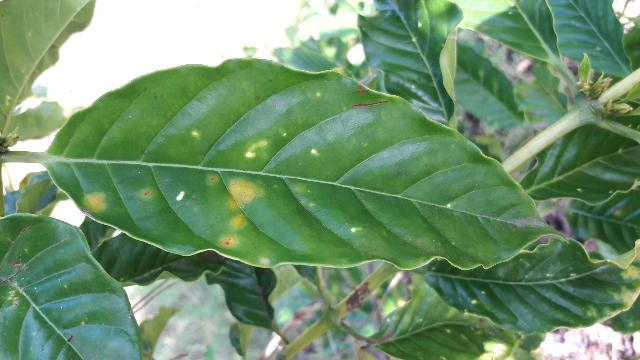rust_level_2: (43, 59, 565, 272)
